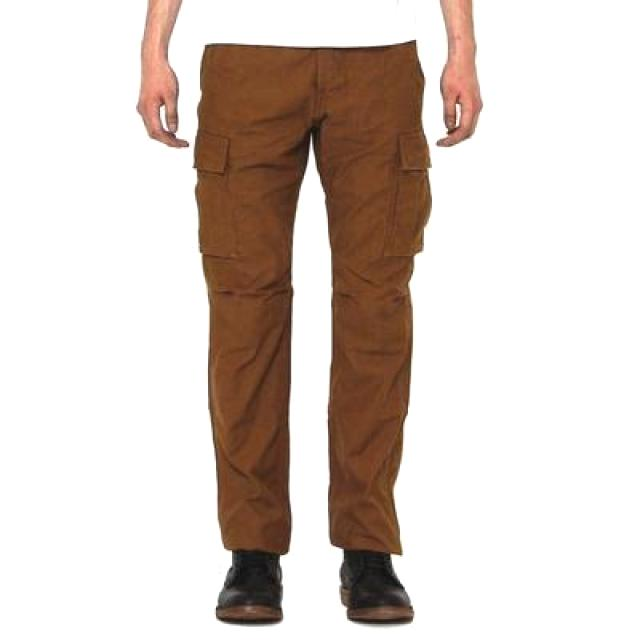pants: (193, 38, 431, 556)
